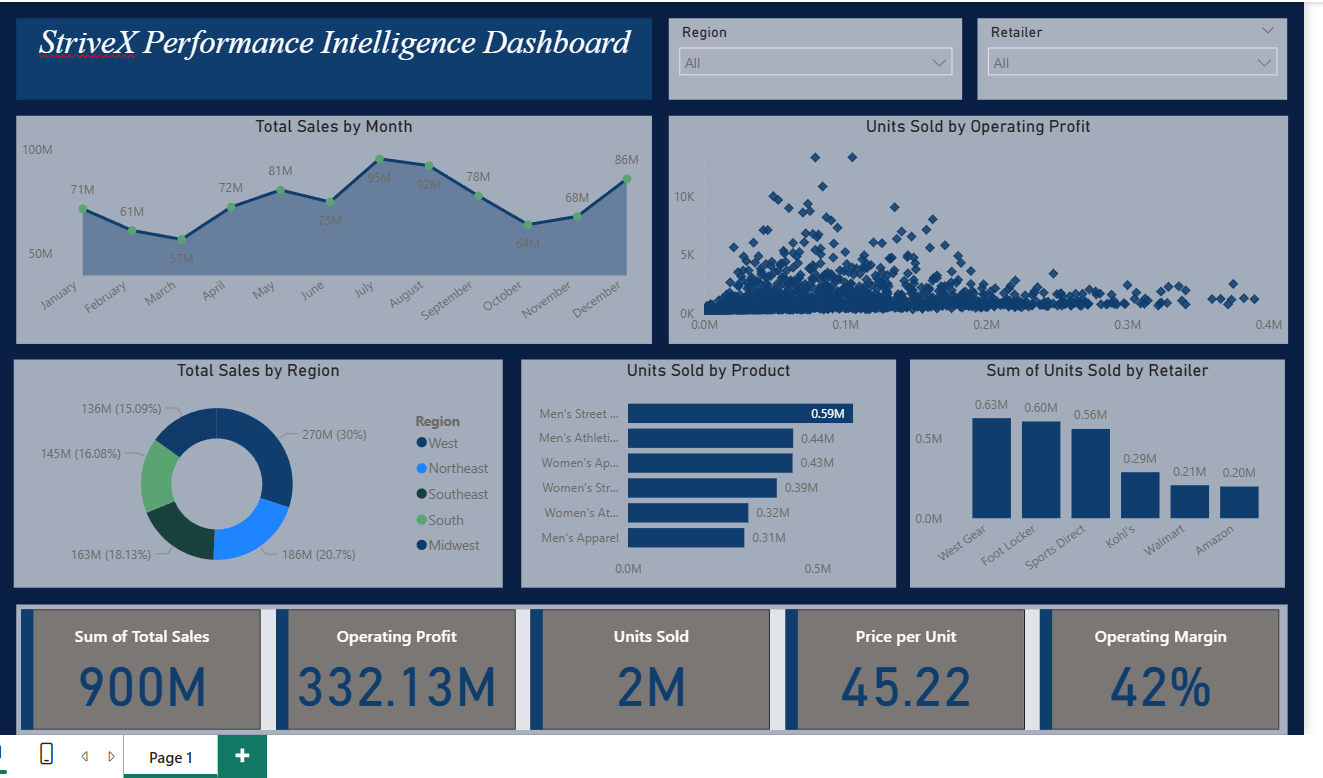

Layout of this report page (visuals, bound fields, positions):
{"tool":"powerbi","page":{"name":"Page 1","canvas":[1280,720],"ordinal":0},"visuals":[{"type":"textbox","box":[16,16,624,80],"z":1000},{"type":"cardVisual","fields":{"Data":["Sum(Data Sales Adidas.Total Sales)","Sum(Data Sales Adidas.Operating Profit)","Sum(Data Sales Adidas.Units Sold)","Avg(Data Sales Adidas.Price per Unit)","Avg(Data Sales Adidas.Operating Margin)"]},"box":[16,592,1248,128],"z":2000},{"type":"areaChart","title":"Total Sales by Month","fields":{"Category":["Data Sales Adidas.Invoice Date.Variation.Date Hierarchy.Month"],"Y":["Sum(Data Sales Adidas.Total Sales)"]},"box":[16,112,624,224],"z":3000},{"type":"donutChart","title":" Total Sales by Region","fields":{"Category":["Data Sales Adidas.Region"],"Y":["Sum(Data Sales Adidas.Total Sales)"]},"box":[13,351.3,480,224],"z":4000},{"type":"barChart","title":"Units Sold by Product","fields":{"Category":["Data Sales Adidas.Product"],"Y":["Sum(Data Sales Adidas.Units Sold)"]},"box":[512,351.3,368,224],"z":5000},{"type":"clusteredColumnChart","fields":{"Category":["Data Sales Adidas.Retailer"],"Y":["Sum(Data Sales Adidas.Units Sold)"]},"box":[893,351.3,368,224],"z":6000},{"type":"scatterChart","title":" Units Sold by Operating Profit","fields":{"Y":["Sum(Data Sales Adidas.Units Sold)"],"X":["Data Sales Adidas.Operating Profit"]},"box":[656,112,608,224],"z":7000},{"type":"slicer","fields":{"Values":["Data Sales Adidas.Region"]},"box":[656,16,288,80],"z":8000},{"type":"slicer","fields":{"Values":["Data Sales Adidas.Retailer"]},"box":[960,16,304,80],"z":9000}]}

Visuals, with their boxes in screenshot pixels (x1, y1, x2, y2):
textbox: l=13, t=16, r=649, b=98
cardVisual - Sum(Data Sales Adidas.Total Sales) x Sum(Data Sales Adidas.Operating Profit): l=13, t=603, r=1285, b=734
"Total Sales by Month" areaChart: l=13, t=114, r=649, b=342
" Total Sales by Region" donutChart: l=10, t=358, r=499, b=586
"Units Sold by Product" barChart: l=518, t=358, r=894, b=586
clusteredColumnChart - Data Sales Adidas.Retailer x Sum(Data Sales Adidas.Units Sold): l=907, t=358, r=1282, b=586
" Units Sold by Operating Profit" scatterChart: l=665, t=114, r=1285, b=342
slicer - Data Sales Adidas.Region: l=665, t=16, r=959, b=98
slicer - Data Sales Adidas.Retailer: l=975, t=16, r=1285, b=98
